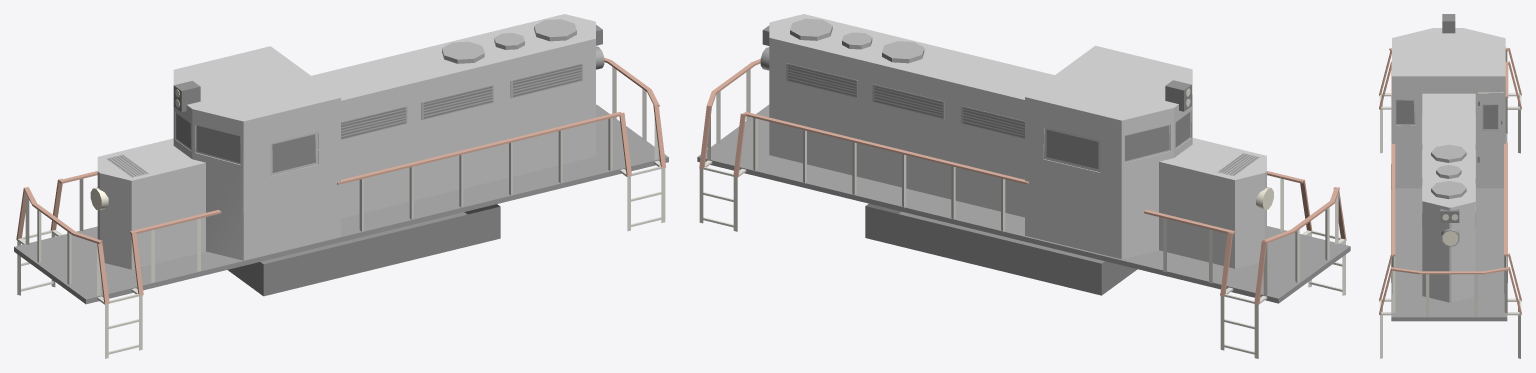
The model's file is props52.fbx.
3 renders of one model, left to right at view 1: azimuth 30°, elevation 25°; view 2: azimuth 150°, elevation 25°; view 3: azimuth 270°, elevation 25°, orthographic. The views are drawn at different scales.
Parts seen in each view (by area): view 1: Cylinder_2; view 2: Cylinder_2; view 3: Cylinder_2.
Boxes of the visible parts, bbox=[...] form: Cylinder_2: bbox=[14, 14, 668, 358]; Cylinder_2: bbox=[697, 14, 1350, 358]; Cylinder_2: bbox=[1379, 14, 1521, 358].
Size of the model in its own units: 1521 by 526 by 400.
